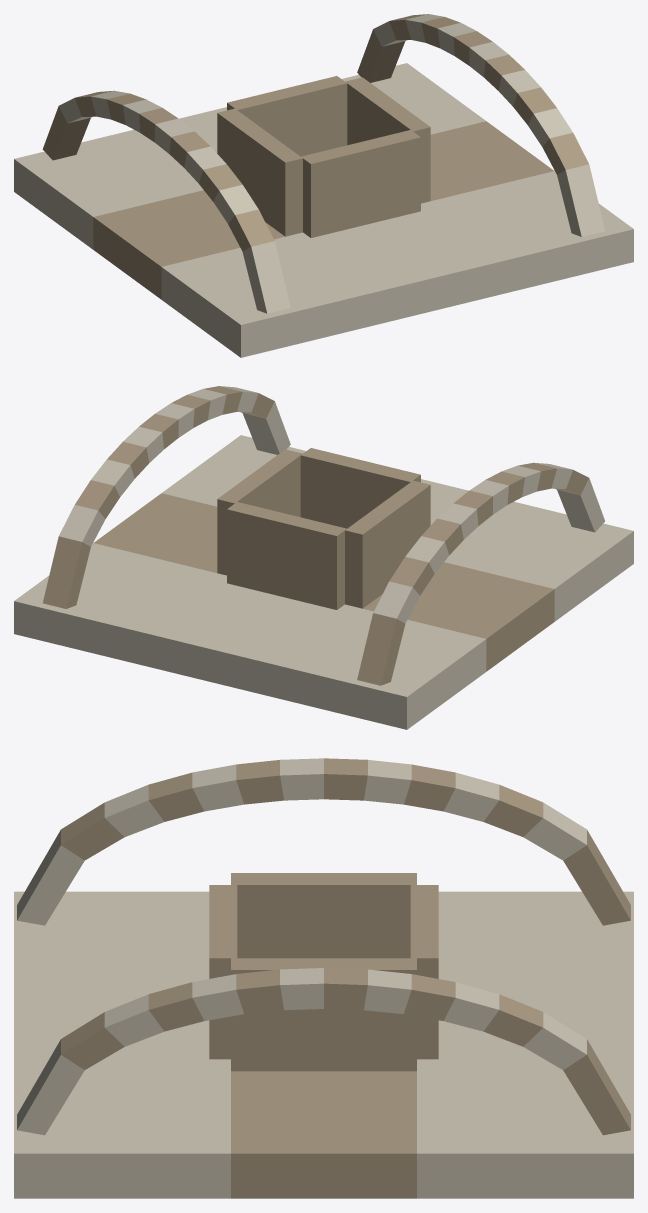
The model's file is GatePassage__Vault.fbx.
3 views of the same model, one above another, from view 1: azimuth 30°, elevation 25°; view 2: azimuth 150°, elevation 25°; view 3: azimuth 270°, elevation 25° (orthographic). The views are drawn at different scales.
Visible parts, largest first — view 1: GatePassage__Vault; view 2: GatePassage__Vault; view 3: GatePassage__Vault.
Part boxes in pixels (x1,y1,x2,y2): GatePassage__Vault: (14, 14, 633, 357); GatePassage__Vault: (14, 386, 633, 729); GatePassage__Vault: (14, 758, 633, 1198).
Bounding box in the file's own units: 400 × 140 × 400.
Materials: 1 (1 with a texture image).
